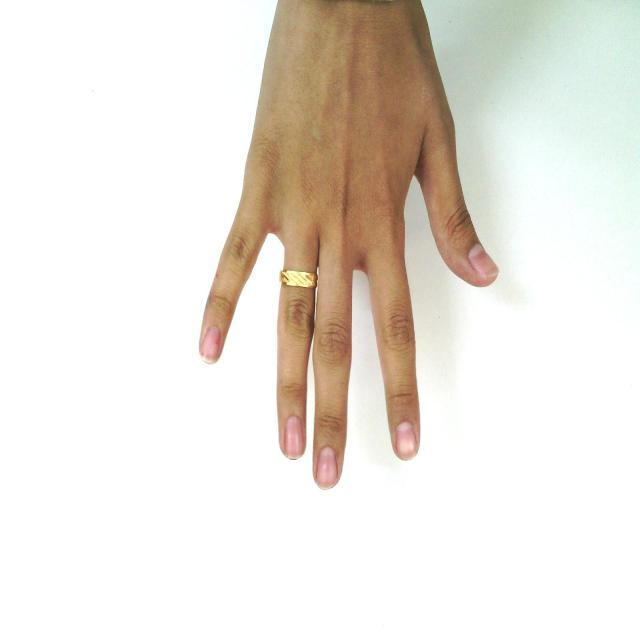Fingernail: (469, 245, 498, 277), (317, 447, 337, 488), (285, 416, 303, 459), (396, 422, 416, 459), (202, 328, 219, 363)
